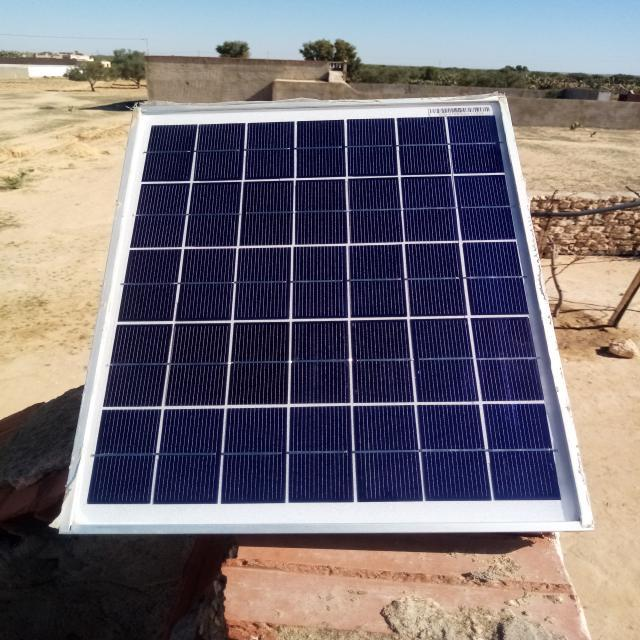no faulty: (62, 98, 591, 535)
